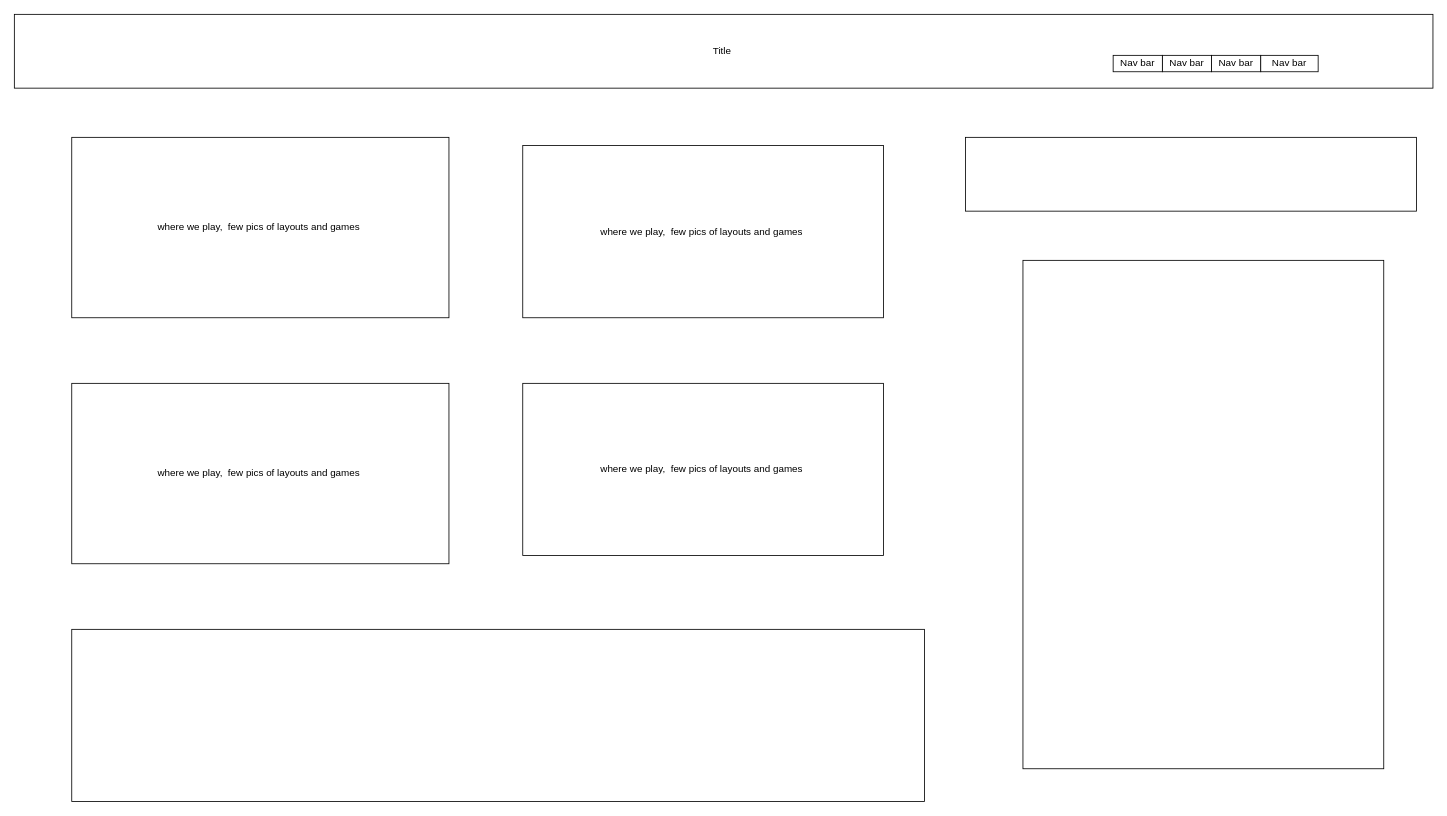
Image size: 1447x816. Some labels were removed from this diagram. Here are the shapes that lost their labels. From the top down, the centre of each, then its label:
At pixel 1191 174: "call to action to join us".
At pixel 1203 514: "list of local tournements going on date, and game and costs".
At pixel 498 715: "ideas of where/how/when/etc.".
